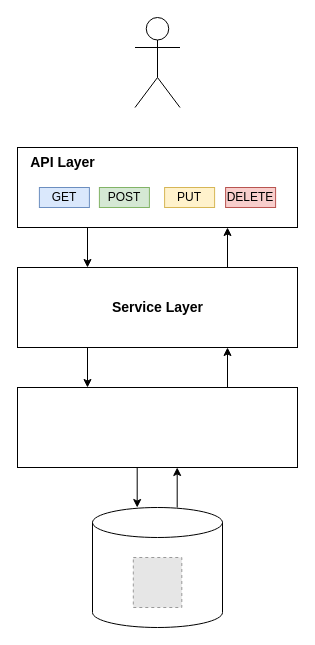
Image size: 315x645. Some labels were removed from this diagram. Grey dashed boxes stand in for pictures. The centre of each missing label's shape, as x and y in pixels:
"Data Access Layer" goes at [157,427].
"User" goes at [157,62].
